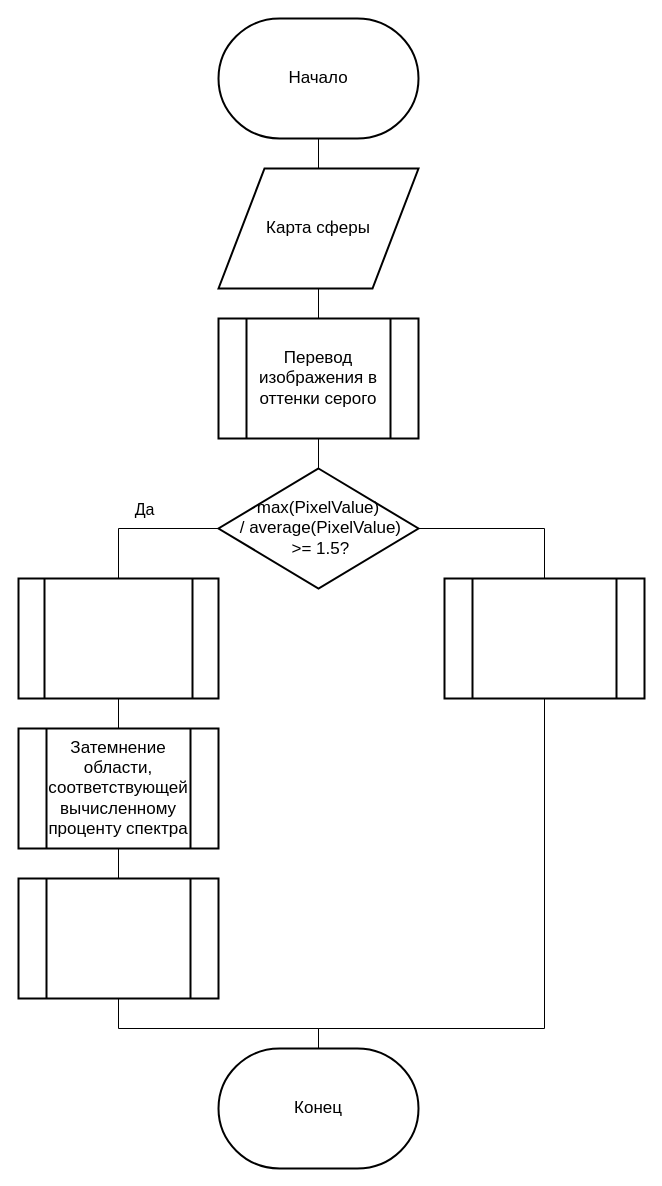
The diagram is 662 pixels wide and 1186 high, and some of its shapes have lost their labels. The shapes that lost their labels are listed below. From the top down, each one's centre as x and y in pixels, then its label:
the point at 118,638: Вычисление минимального процента спектра, покрывающий не менее 98% пикселей
the point at 544,638: Сообщение о невозможности обнаружить области расположения источников света
the point at 118,938: Применение медианного фильтра размытия
